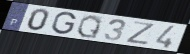0: (27, 8, 51, 32)
3: (103, 19, 127, 42)
4: (154, 24, 177, 49)
G: (50, 12, 77, 36)
Q: (75, 14, 103, 40)
Z: (124, 21, 156, 46)
